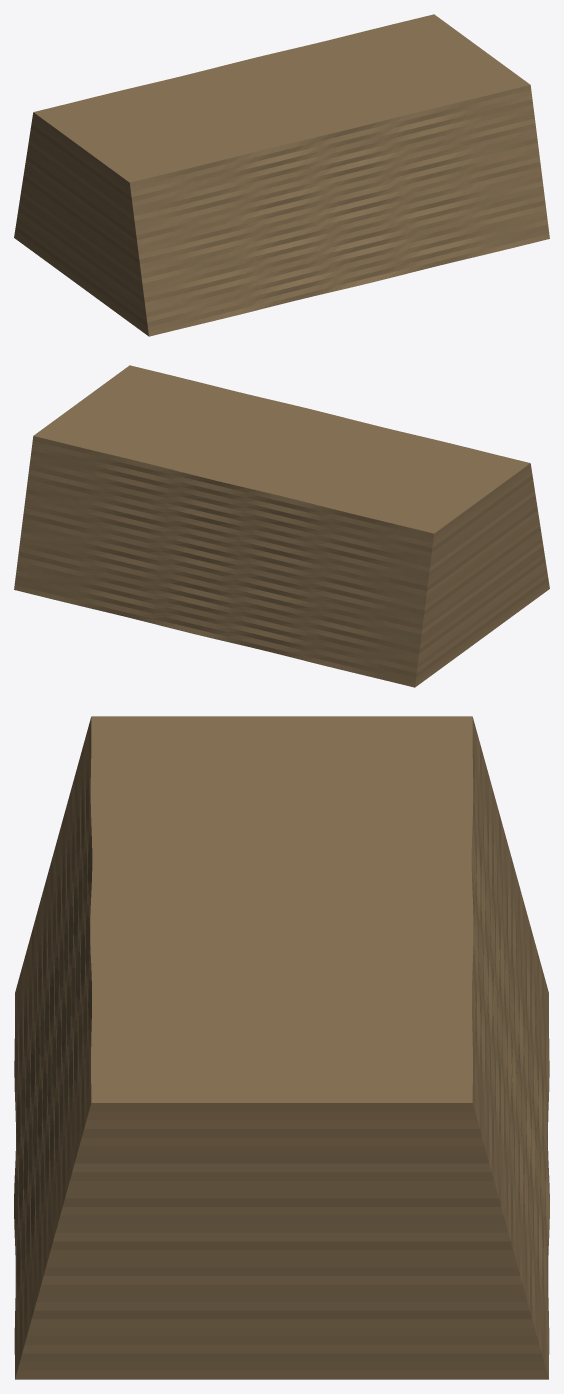
The model's file is earthwall-B-LOD0.glb.
3 views of the same model, one above another, from view 1: azimuth 30°, elevation 25°; view 2: azimuth 150°, elevation 25°; view 3: azimuth 270°, elevation 25° (orthographic). The views are drawn at different scales.
Parts seen in each view (by area): view 1: earthwall-B-LOD0; view 2: earthwall-B-LOD0; view 3: earthwall-B-LOD0.
Boxes of the visible parts, box(x1,y1,x2,y2) form: earthwall-B-LOD0: box(14, 14, 549, 336); earthwall-B-LOD0: box(14, 365, 549, 687); earthwall-B-LOD0: box(14, 716, 549, 1379).
Bounding box in the file's own units: 24 × 8 × 14.05.
